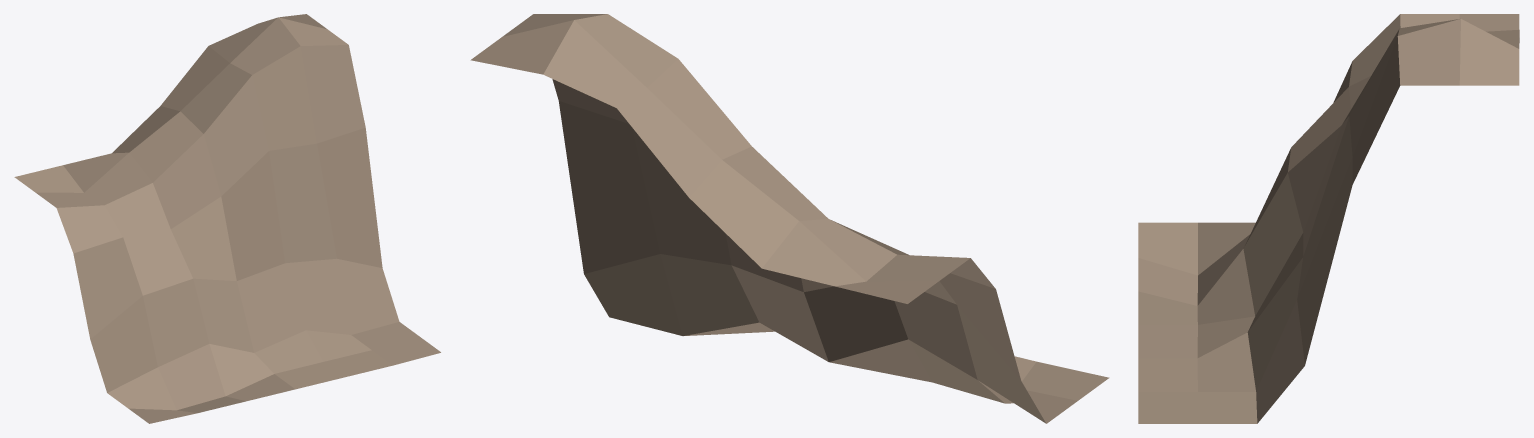
Rendered from Groborchik_RiverBank_Trans_Down5-3.fbx.
3 renders of one model, left to right at view 1: azimuth 30°, elevation 25°; view 2: azimuth 150°, elevation 25°; view 3: azimuth 270°, elevation 25°, orthographic. The views are drawn at different scales.
Parts seen in each view (by area): view 1: Trans_Down5-3; view 2: Trans_Down5-3; view 3: Trans_Down5-3.
Part boxes in pixels (x1=…): Trans_Down5-3: x1=14, y1=14, x2=440, y2=423; Trans_Down5-3: x1=470, y1=14, x2=1109, y2=423; Trans_Down5-3: x1=1138, y1=14, x2=1519, y2=423.
Size of the model in its own units: 1000 by 906 by 801.
